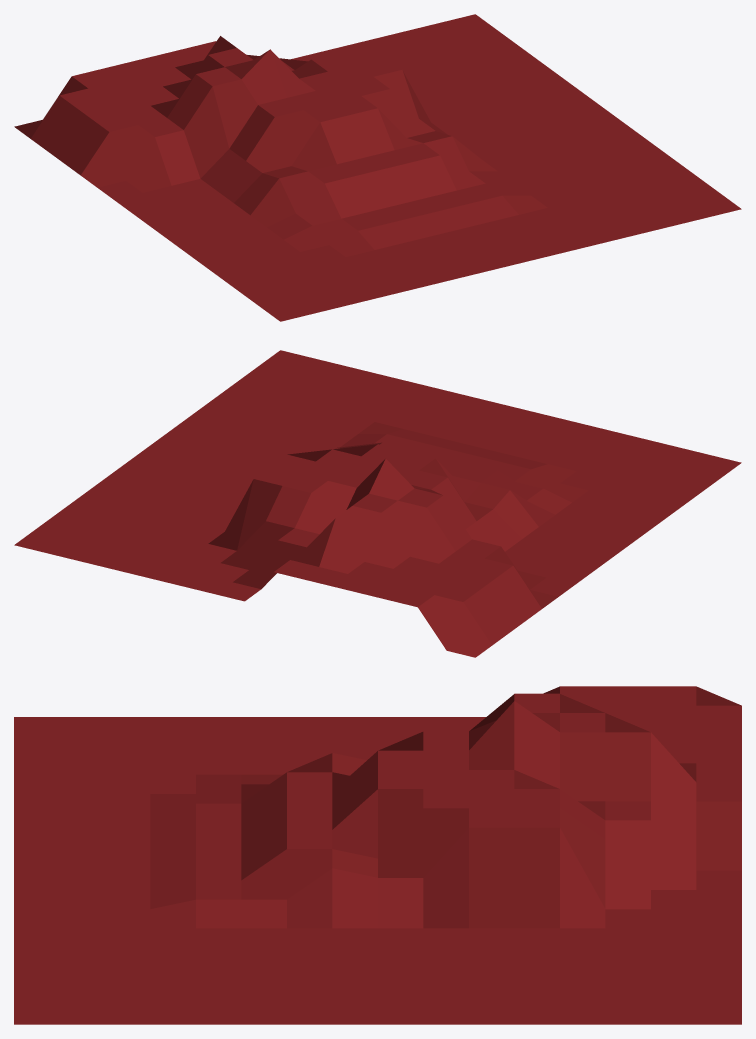
Rendered from hills.gltf.
3 renders of one model, top to bottom at view 1: azimuth 30°, elevation 25°; view 2: azimuth 150°, elevation 25°; view 3: azimuth 270°, elevation 25°, orthographic. The views are drawn at different scales.
Parts seen in each view (by area): view 1: Plane; view 2: Plane; view 3: Plane.
Boxes of the visible parts, box(x1,y1,x2,y2) form: Plane: box(14, 14, 741, 321); Plane: box(14, 350, 741, 657); Plane: box(14, 686, 741, 1024).
Bounding box in the file's own units: 12.12 × 2.41 × 12.12.
